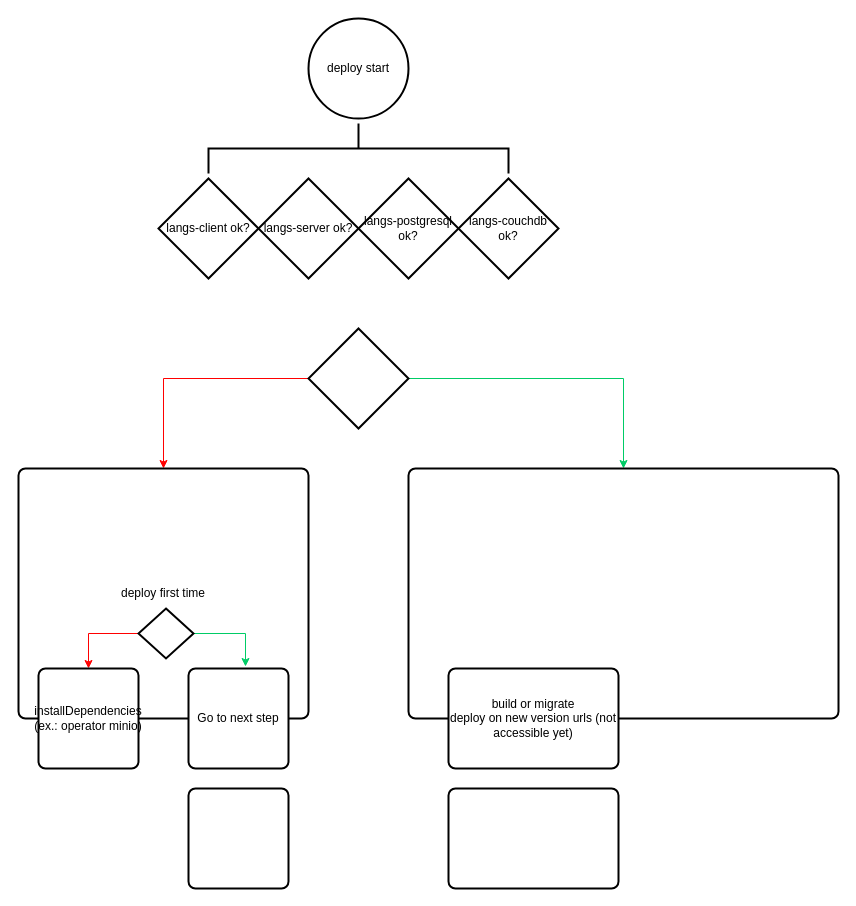
Some shapes in this 856 by 906 pixel diagram are drawn without their labels. The shapes that lost their labels are listed below. From the top down, each one's box as (x1, y1, x2, y2) in pixels, then its label:
(307, 327, 409, 429): condition
(407, 467, 839, 719): update existing
(137, 607, 194, 659): hasDependenciesAlreadyReady?
(187, 787, 289, 889): deploy pod for first time, without any consideration about the past
(447, 787, 619, 889): progressively migrate from old version url to new (canary deployment)
